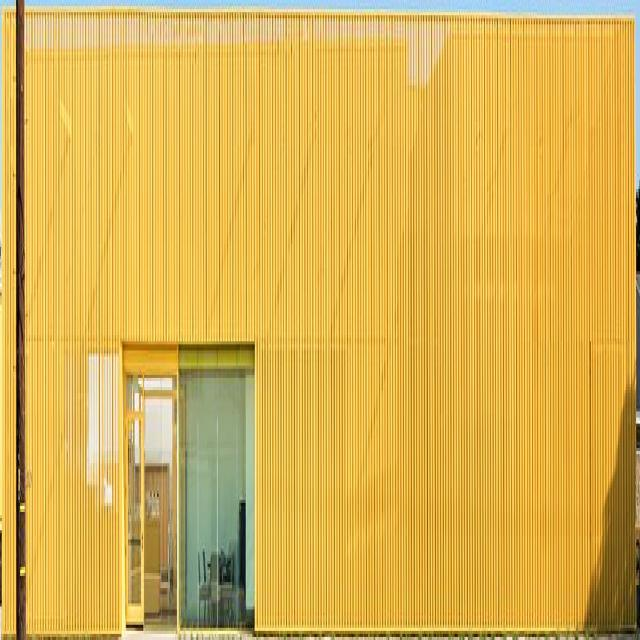door: (125, 344, 176, 637)
wall: (2, 13, 636, 636)
windows: (180, 362, 255, 621)
